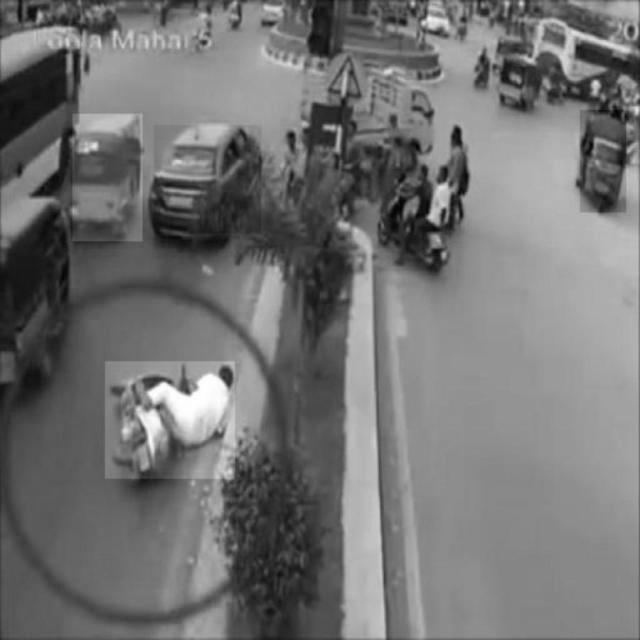vehicle: (105, 362, 235, 480), (154, 125, 262, 233), (73, 114, 143, 242), (378, 168, 451, 270), (580, 111, 626, 213)
